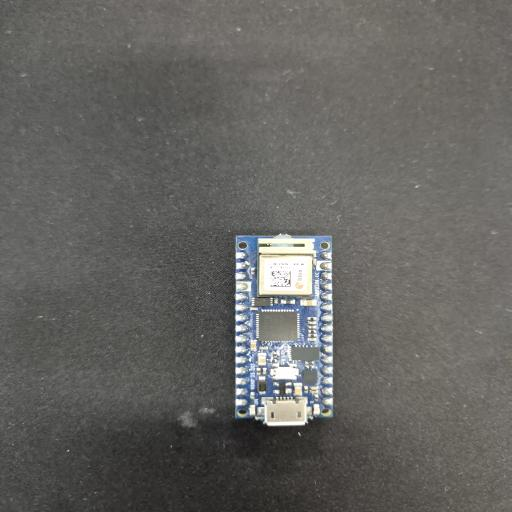arduino-nano-iot-33: (235, 234, 333, 426)
